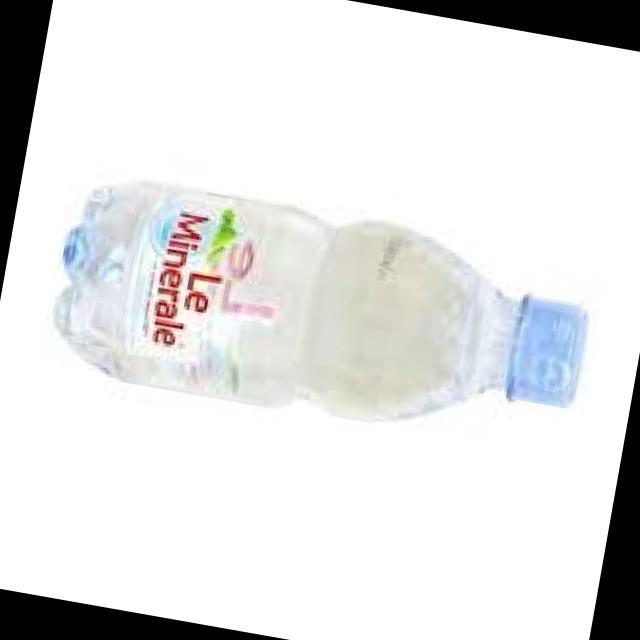good: (26, 162, 606, 480)
